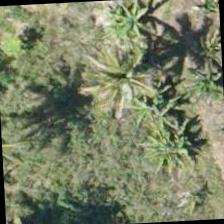Kelapa_Sawit: (78, 33, 173, 128)
